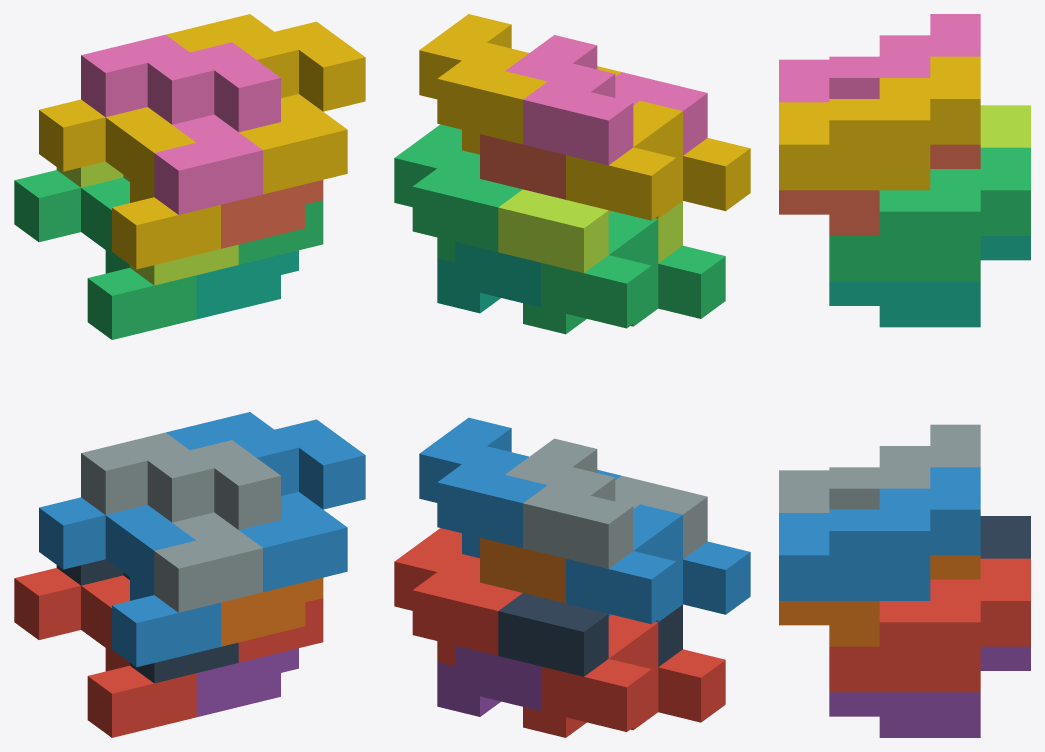
File: tiling.obj
3 renders of one model, left to right at view 1: azimuth 30°, elevation 25°; view 2: azimuth 150°, elevation 25°; view 3: azimuth 270°, elevation 25°, orthographic. The views are drawn at different scales.
Visible parts, largest first — view 1: copy_2_domain_4, copy_2_domain_2, copy_2_domain_6, copy_2_domain_8, copy_1_domain_2, copy_1_domain_4, copy_1_domain_1, copy_1_domain_3, copy_1_domain_5, copy_1_domain_6, copy_1_domain_7, copy_1_domain_8 (+4 smaller); view 2: copy_2_domain_4, copy_2_domain_2, copy_1_domain_3, copy_1_domain_1, copy_1_domain_2, copy_1_domain_4, copy_2_domain_6, copy_2_domain_8, copy_2_domain_5, copy_2_domain_7, copy_2_domain_3, copy_2_domain_1 (+4 smaller); view 3: copy_2_domain_8, copy_2_domain_6, copy_2_domain_5, copy_2_domain_7, copy_2_domain_2, copy_2_domain_4, copy_1_domain_7, copy_1_domain_5, copy_1_domain_6, copy_1_domain_8, copy_2_domain_1, copy_2_domain_3.
Boxes of the visible parts, <box> form: copy_2_domain_4: <box>81,34,280,214</box>; copy_2_domain_2: <box>81,432,280,612</box>; copy_2_domain_6: <box>166,412,365,592</box>; copy_2_domain_8: <box>166,14,365,194</box>; copy_1_domain_2: <box>39,497,220,667</box>; copy_1_domain_4: <box>39,99,220,269</box>; copy_1_domain_1: <box>14,568,196,737</box>; copy_1_domain_3: <box>14,170,196,339</box>; copy_1_domain_5: <box>196,648,298,716</box>; copy_1_domain_6: <box>221,577,323,646</box>; copy_1_domain_7: <box>196,250,298,319</box>; copy_1_domain_8: <box>221,180,323,248</box>; copy_2_domain_4: <box>505,35,707,165</box>; copy_2_domain_2: <box>505,438,707,568</box>; copy_1_domain_3: <box>523,211,725,334</box>; copy_1_domain_1: <box>523,615,725,737</box>; copy_1_domain_2: <box>566,504,750,624</box>; copy_1_domain_4: <box>566,100,750,220</box>; copy_2_domain_6: <box>419,417,621,558</box>; copy_2_domain_8: <box>419,14,621,154</box>; copy_2_domain_5: <box>394,528,522,665</box>; copy_2_domain_7: <box>394,124,522,262</box>; copy_2_domain_3: <box>498,189,682,272</box>; copy_2_domain_1: <box>498,593,682,676</box>; copy_2_domain_8: <box>779,56,980,190</box>; copy_2_domain_6: <box>779,467,980,600</box>; copy_2_domain_5: <box>829,558,1030,692</box>; copy_2_domain_7: <box>829,147,1030,281</box>; copy_2_domain_2: <box>779,424,980,512</box>; copy_2_domain_4: <box>779,14,980,102</box>; copy_1_domain_7: <box>829,236,1030,327</box>; copy_1_domain_5: <box>829,646,1030,737</box>; copy_1_domain_6: <box>779,555,980,646</box>; copy_1_domain_8: <box>779,144,980,235</box>; copy_2_domain_1: <box>980,516,1030,558</box>; copy_2_domain_3: <box>980,105,1030,147</box>.
Size of the model in its own units: 6 by 14 by 5.
